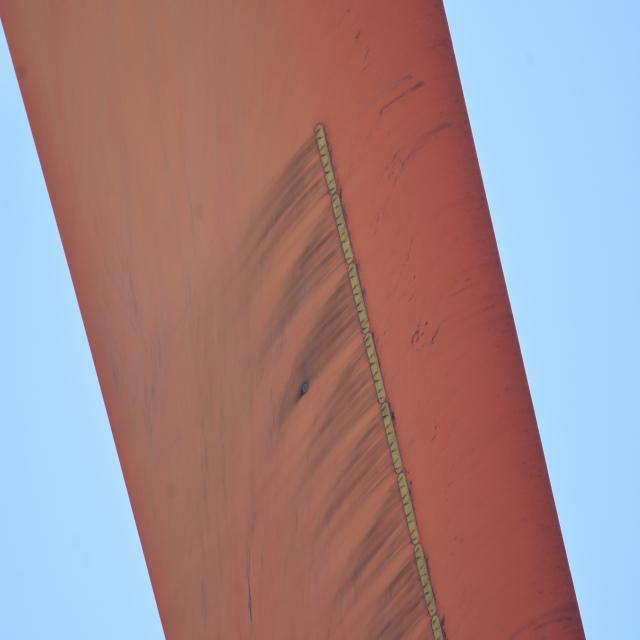Coating_defects: (295, 373, 320, 405)
